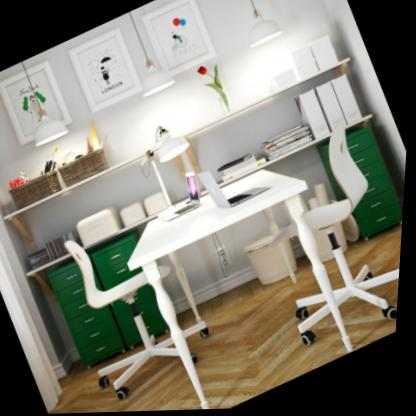Chair: (227, 109, 410, 363), (39, 193, 235, 409)
Table: (107, 146, 387, 413)
